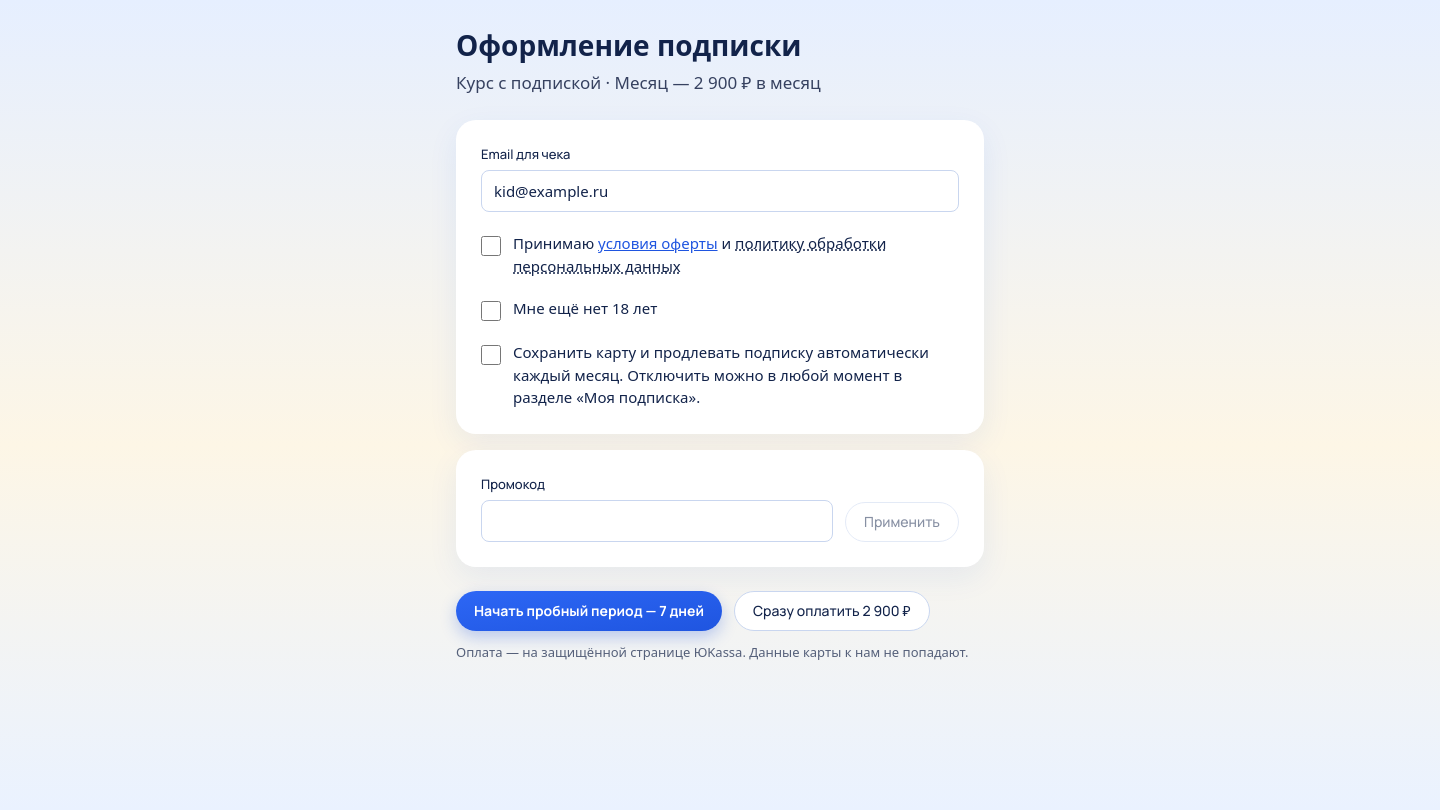
Test: оформление › промокод не подошёл — одно и то же «не подходит», без подсказки; изменили поле — скидка снята
Step 1. Type "NOPE1" into the field with test id "checkout-promo" → (657, 521), box [481, 500, 833, 542]
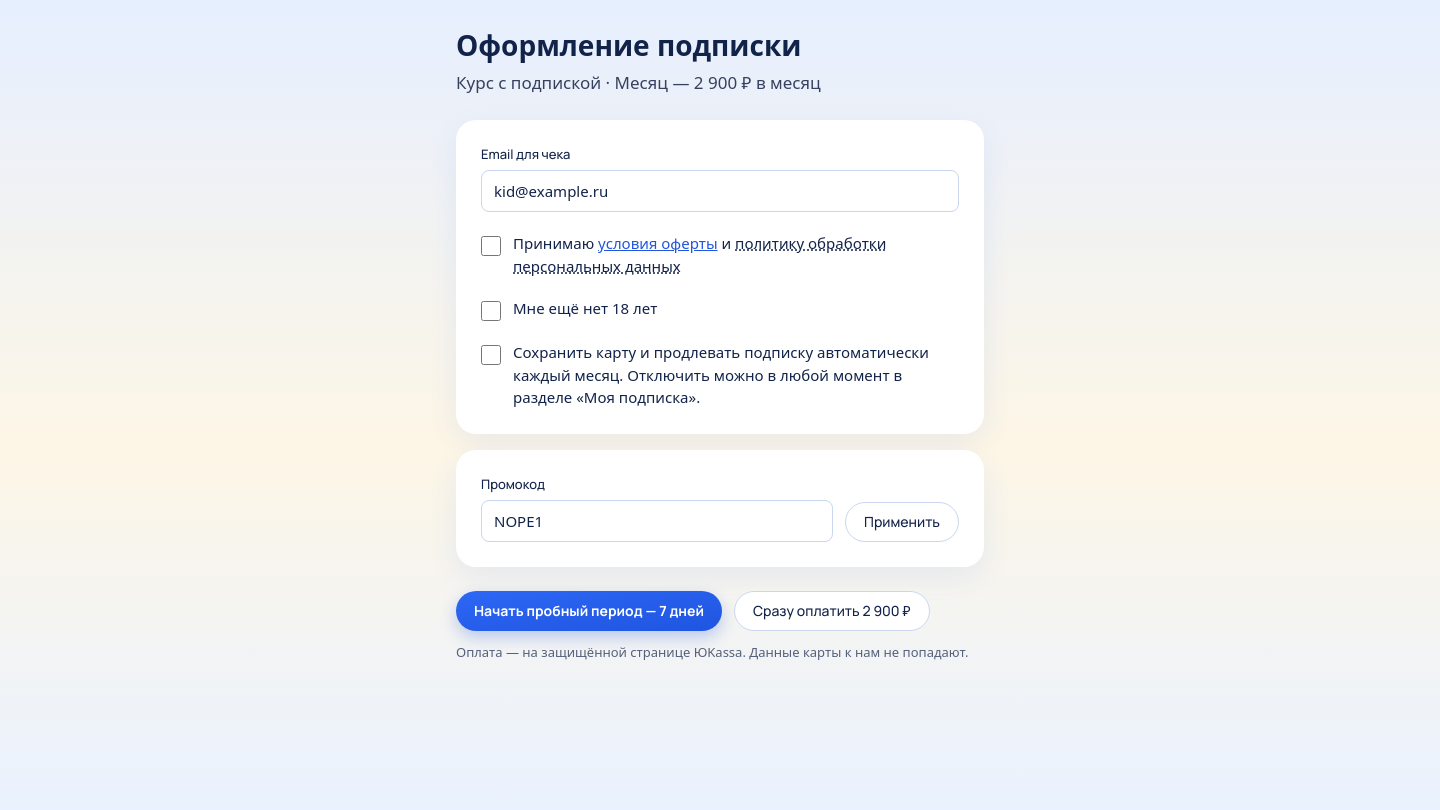
Step 2. Click the button with test id "checkout-promo-apply" → (902, 522), box [845, 502, 959, 542]
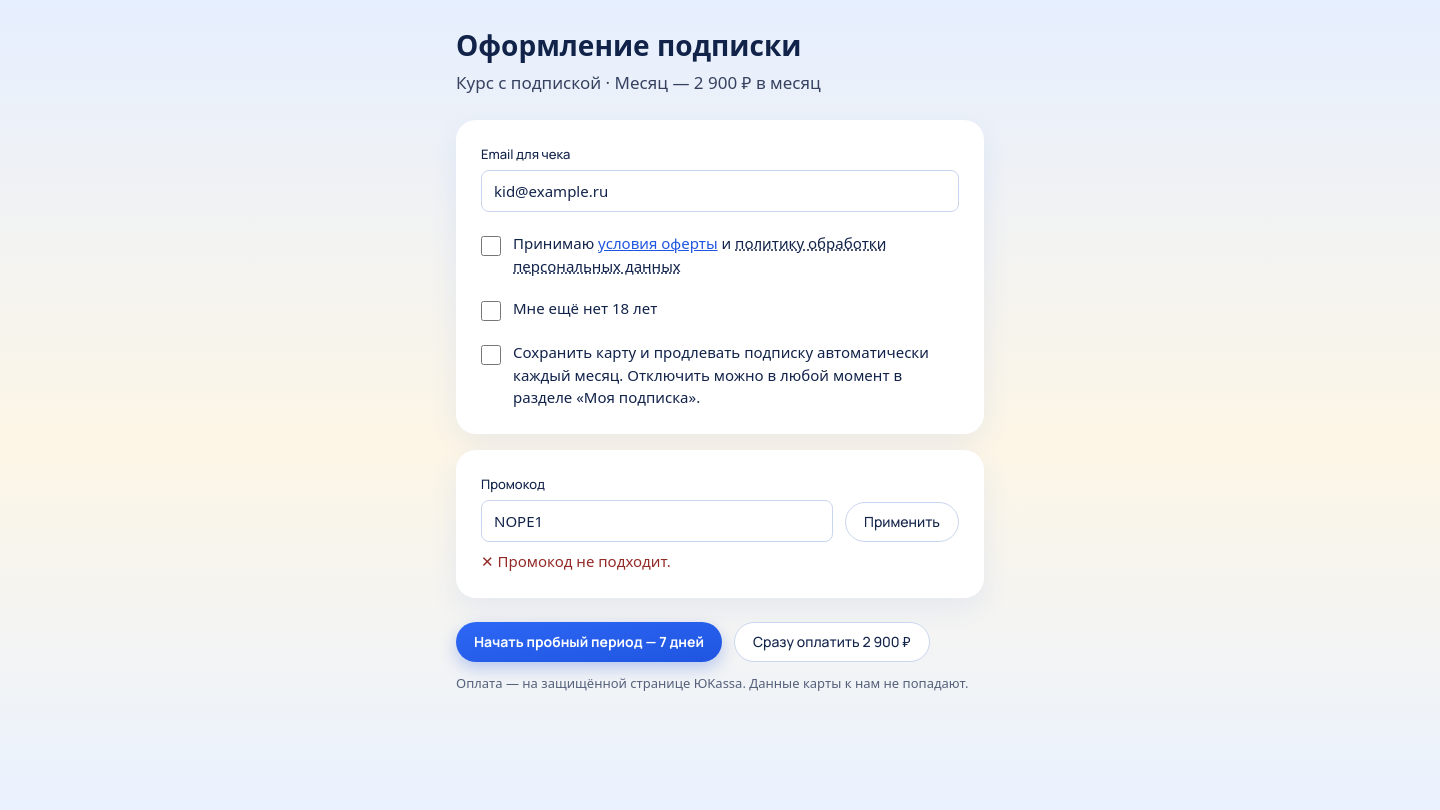
expect the text with test id "checkout-promo-error" shows "Промокод не подходит.": met, box [498, 551, 671, 571]
Step 3. Click the button with test id "checkout-promo-apply" → (902, 522), box [845, 502, 959, 542]
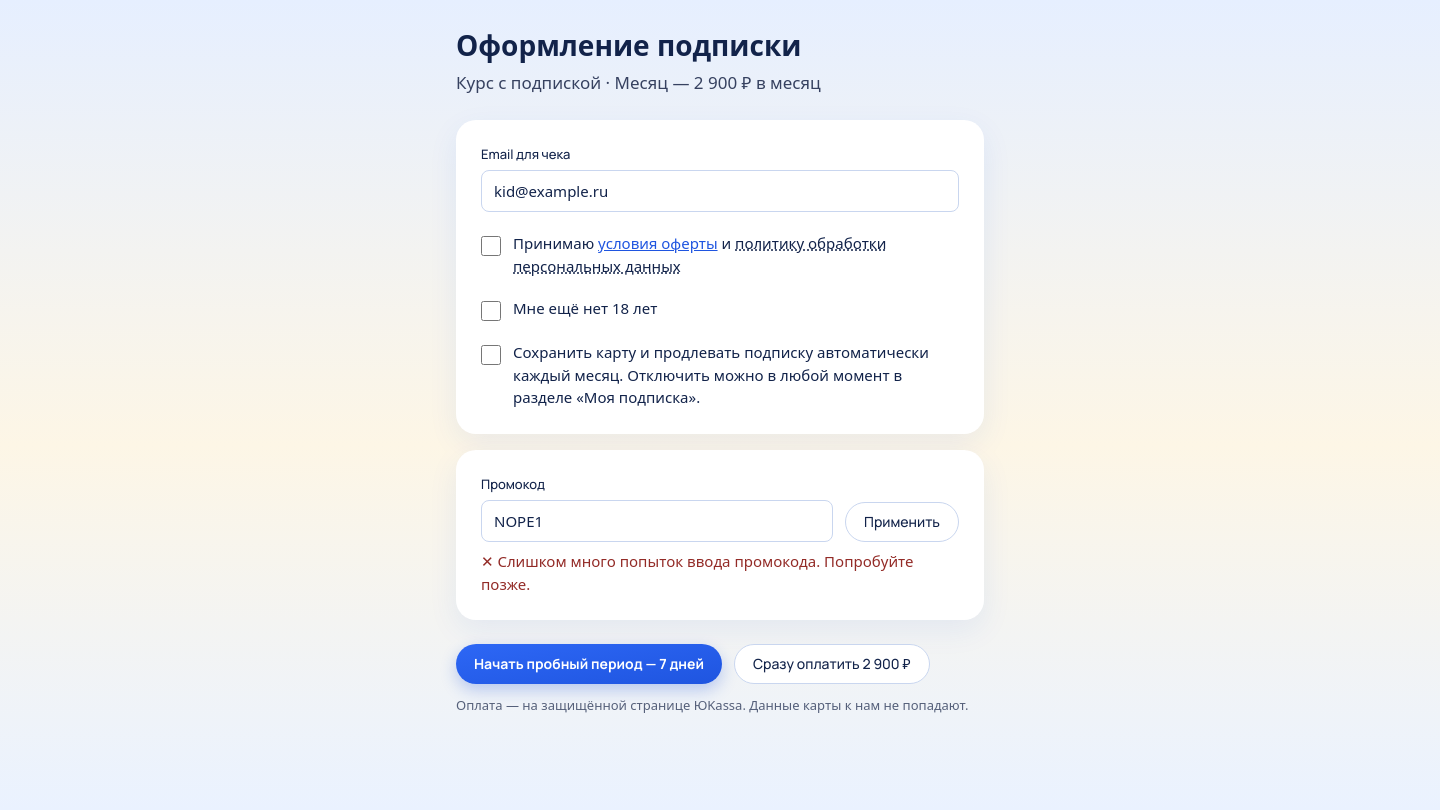
expect the text "✕ Слишком много попыток ввода промокода. Попробуйте позже." is shown: met, box [481, 550, 959, 595]
